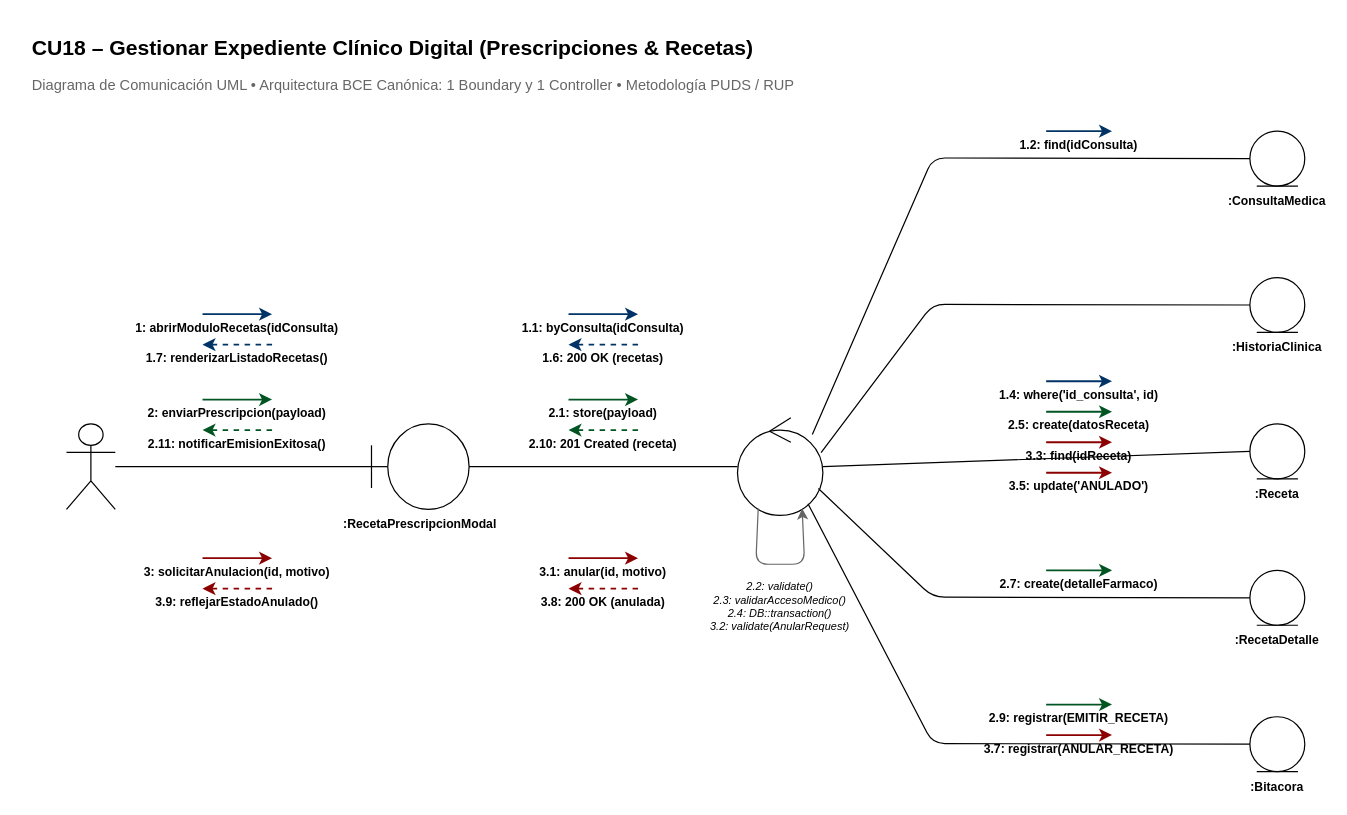
The diagram is 1347 pixels wide and 815 high, and some of its shapes have lost their labels. Here are the shapes that lost their labels. From the top down, the box of each, then its label:
(65, 423, 115, 509): :Médico / Administrador
(736, 417, 823, 515): :RecetasController
